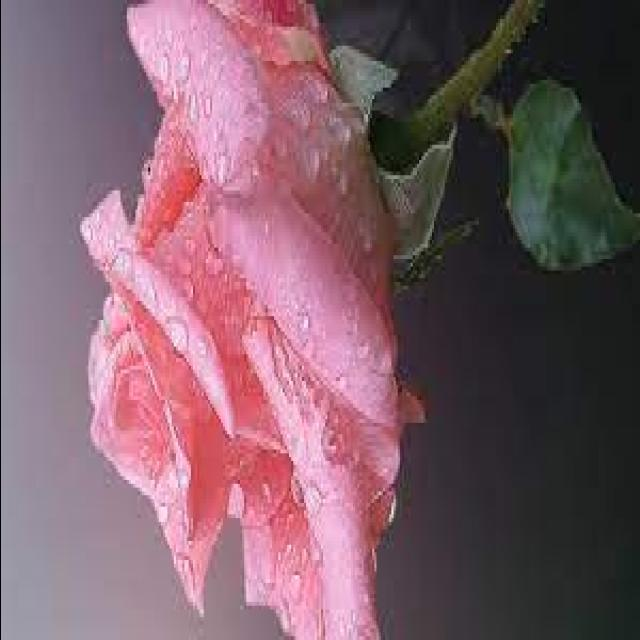rose: (81, 0, 436, 640)
